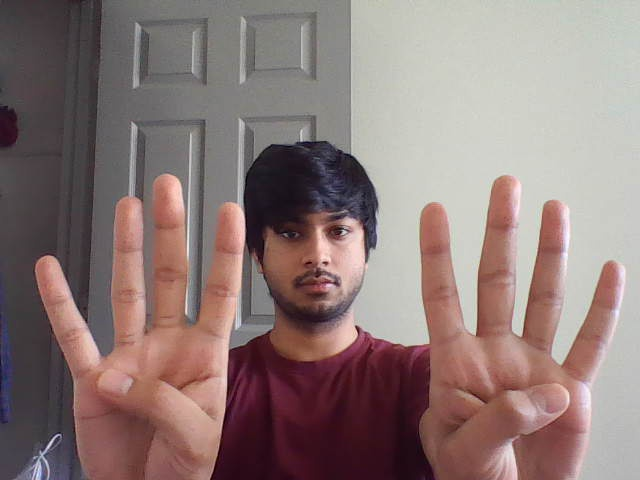four: (402, 170, 630, 384), (27, 168, 263, 365)
